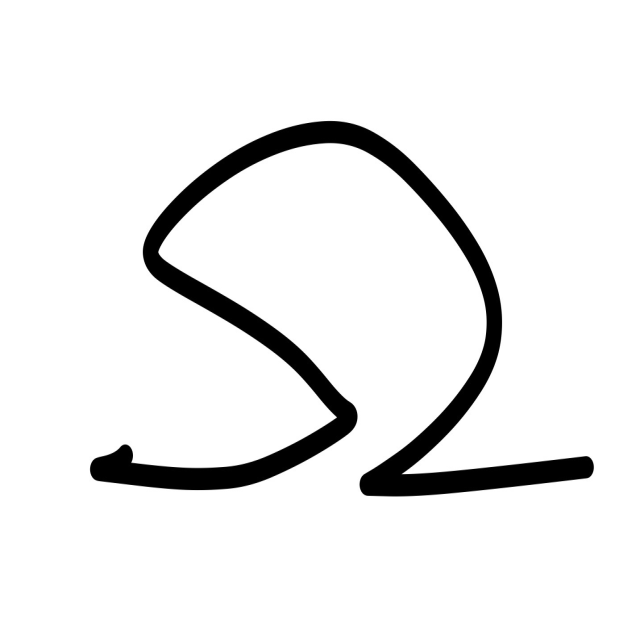ohms: (20, 31, 625, 575)
